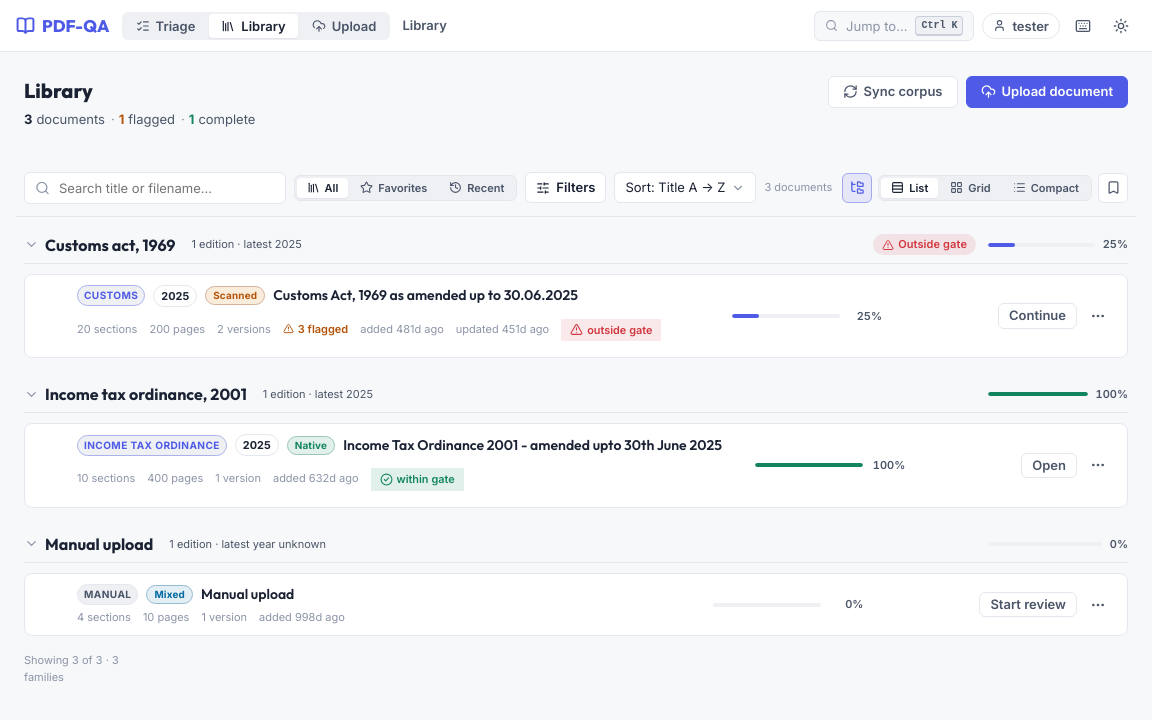
it: Library page › switches density to compact rows
The width and height of the screenshot is (1152, 720).
Expected: the text "3 documents" is shown, 764,179 -> 832,196
Click the button "Compact".
click(1046, 188)  # box 1003,178 -> 1089,198
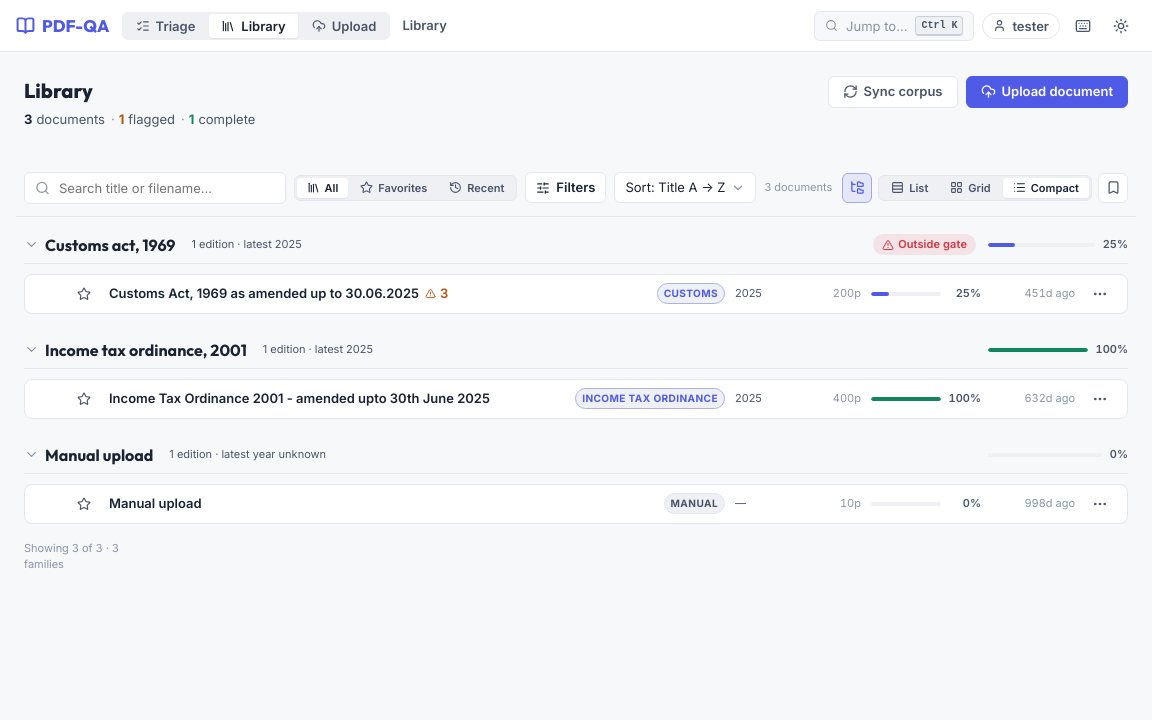
Result: the number of links with class "doc-compact-row" is 3 at 25,274 -> 1127,312; 25,380 -> 1127,418; 25,484 -> 1127,522
